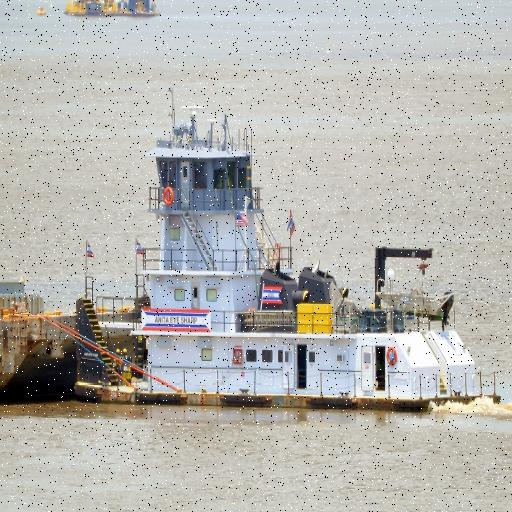tugboat: (72, 79, 508, 424)
